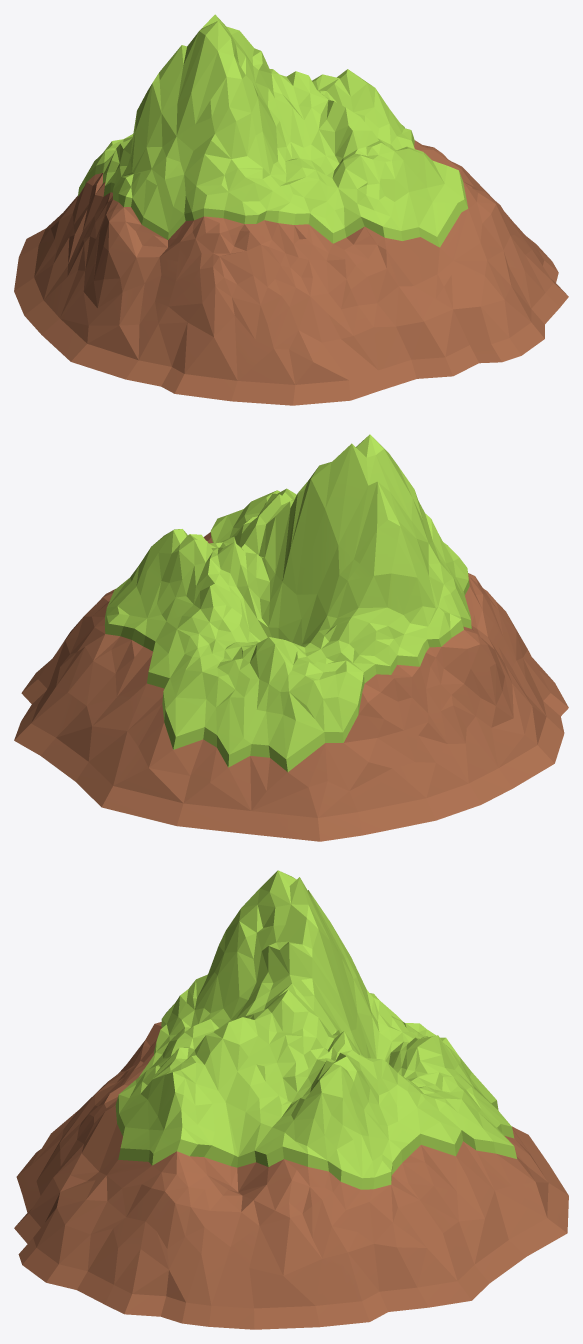
File: smallMountain.gltf
The picture shows the model from 3 angles, top to bottom: view 1: azimuth 30°, elevation 25°; view 2: azimuth 150°, elevation 25°; view 3: azimuth 270°, elevation 25°; orthographic projection. The views are drawn at different scales.
Parts seen in each view (by area): view 1: PP_Forest_Mountain_Moss_01.001; view 2: PP_Forest_Mountain_Moss_01.001; view 3: PP_Forest_Mountain_Moss_01.001.
Part boxes in pixels (x1,y1,x2,y2): PP_Forest_Mountain_Moss_01.001: [14, 14, 568, 405]; PP_Forest_Mountain_Moss_01.001: [14, 434, 568, 841]; PP_Forest_Mountain_Moss_01.001: [14, 870, 568, 1329].
Size of the model in its own units: 35.48 by 20.94 by 34.73.
Materials: 1 (1 with a texture image).
